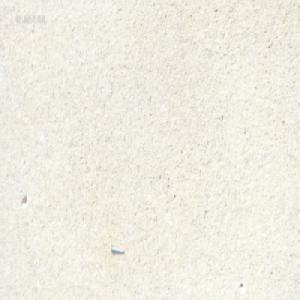Nail: (109, 244, 124, 254)
